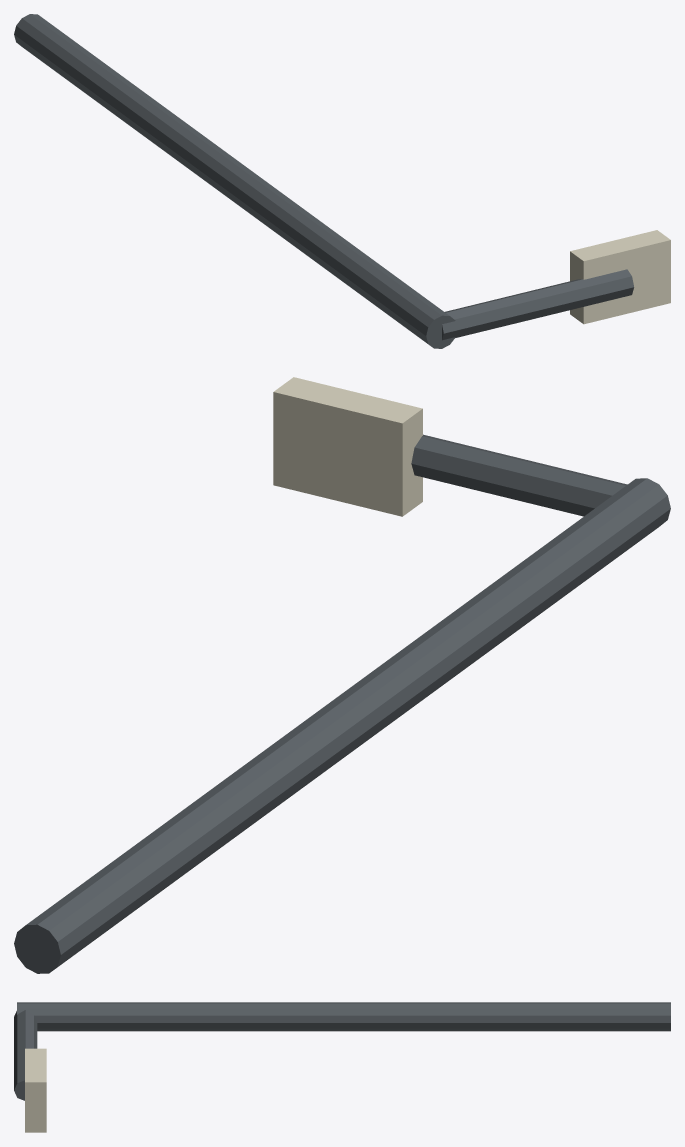
Rendered from streetlight.glb.
3 renders of one model, top to bottom at view 1: azimuth 30°, elevation 25°; view 2: azimuth 150°, elevation 25°; view 3: azimuth 270°, elevation 25°, orthographic. The views are drawn at different scales.
Parts seen in each view (by area): view 1: 0000_Lamp_pole, 0002_Lamp_head, 0001_Lamp_arm; view 2: 0000_Lamp_pole, 0002_Lamp_head, 0001_Lamp_arm; view 3: 0000_Lamp_pole, 0002_Lamp_head, 0001_Lamp_arm.
Part boxes in pixels (left/top/right/bottom): 0000_Lamp_pole: left=14, top=14, right=455, bottom=348; 0002_Lamp_head: left=570, top=230, right=670, bottom=324; 0001_Lamp_arm: left=442, top=269, right=634, bottom=340; 0000_Lamp_pole: left=14, top=478, right=670, bottom=973; 0002_Lamp_head: left=273, top=377, right=422, bottom=516; 0001_Lamp_arm: left=411, top=434, right=627, bottom=516; 0000_Lamp_pole: left=17, top=1002, right=670, bottom=1031; 0002_Lamp_head: left=25, top=1048, right=46, bottom=1132; 0001_Lamp_arm: left=14, top=1010, right=37, bottom=1100.
Size of the model in its own units: 1.58 by 0.38 by 4.52.
